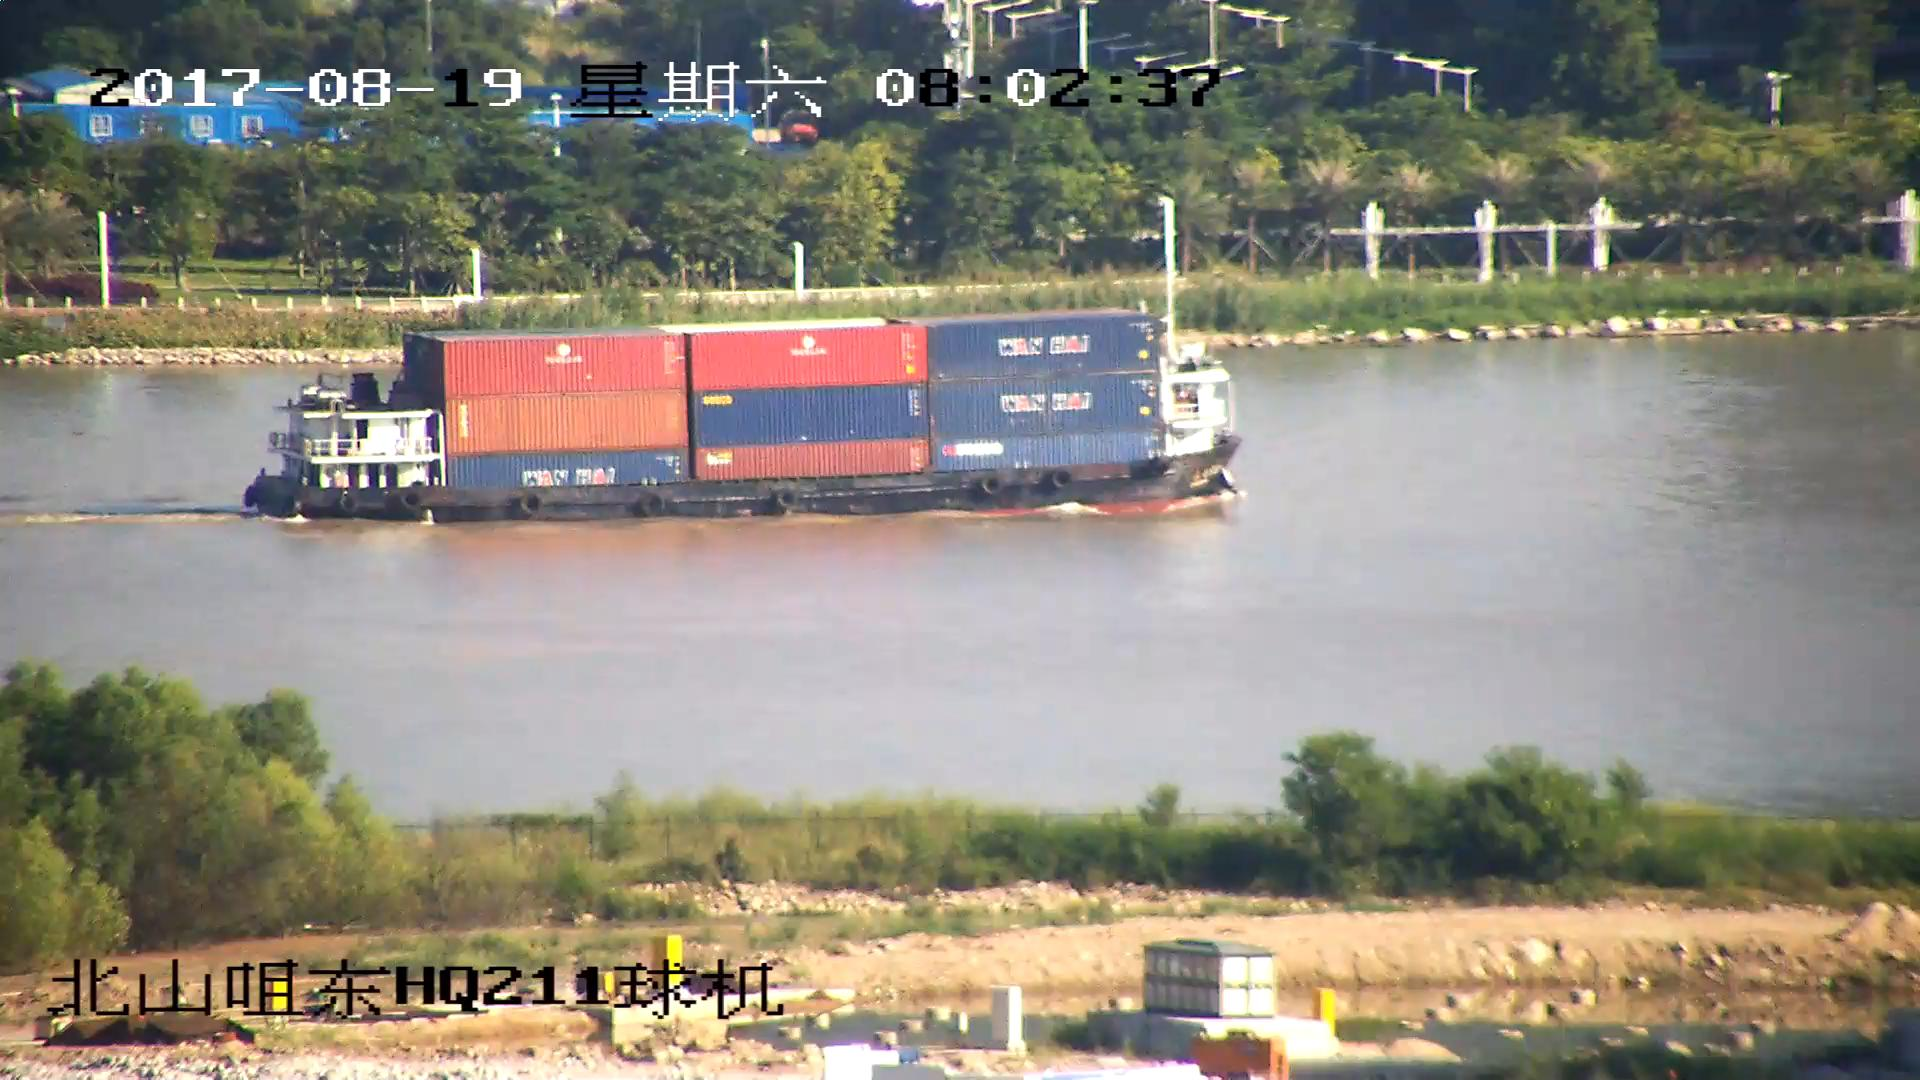container ship: (239, 308, 1258, 519)
